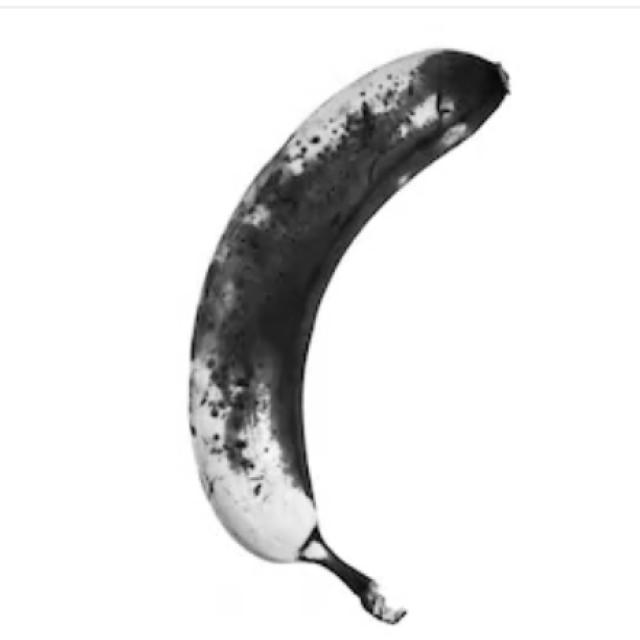Rotten: (172, 26, 518, 636)
